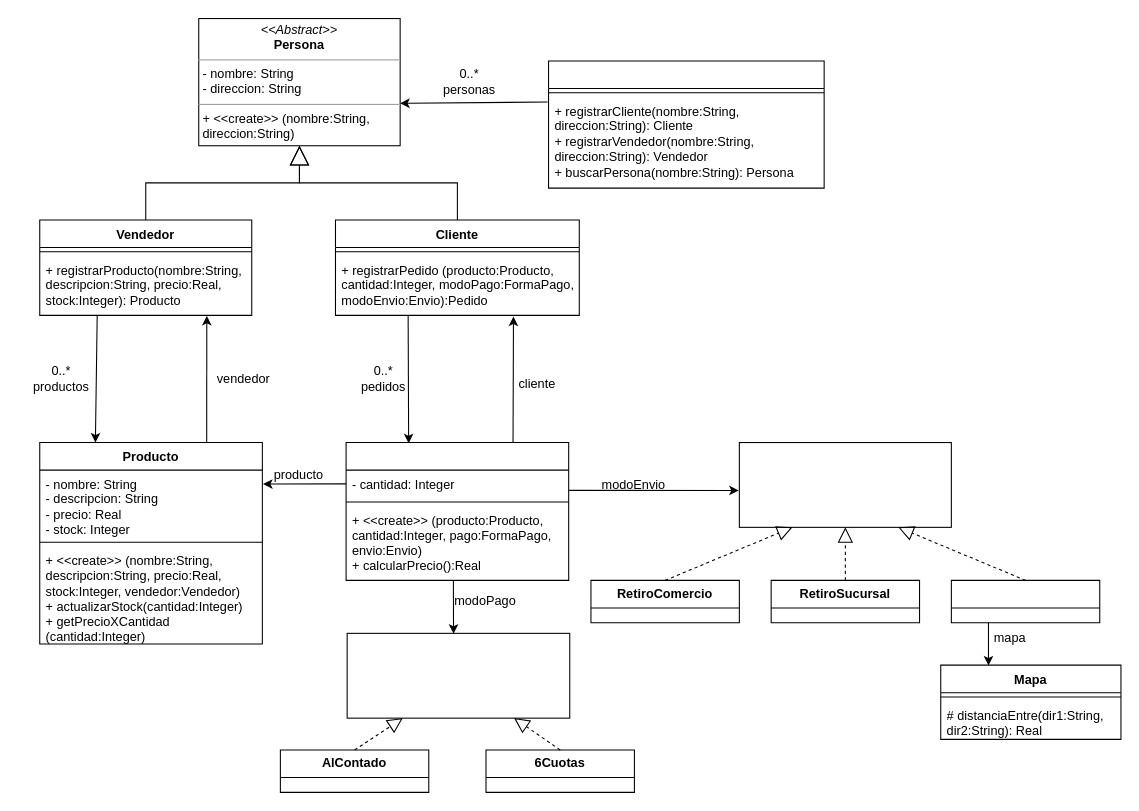
Some shapes in this 1139 by 811 pixel diagram are drawn without their labels. The shapes that lost their labels are listed below. From the top down, each one's box as (x1, y1, x2, y2) in pixels, then its label:
(547, 60, 824, 188): Sistema
(738, 441, 951, 527): <<Interface>> Envio + calcularPrecioXEnvio(dir1:String, dir2:String): Real
(345, 441, 569, 580): Pedido
(950, 579, 1100, 623): ExpresDomicilio
(346, 632, 570, 718): <<Interface>> FormaPago + calcularPrecioXPedido(precio:Real): Real
